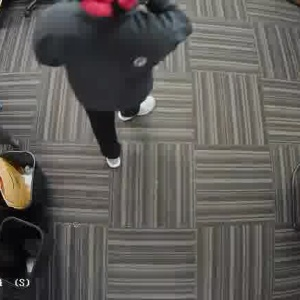person: (56, 0, 187, 144)
